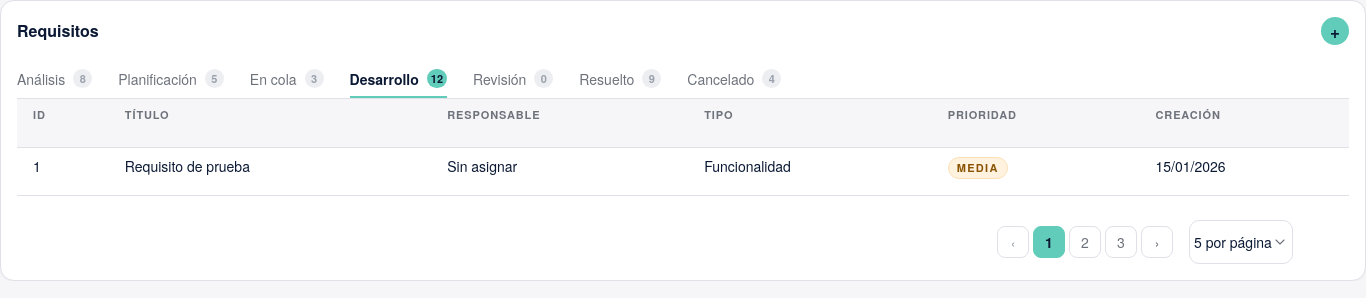
ProjectRequirementsSection — cambio de tab › TS-14: un tab con 0 requisitos muestra total 0, tabla vacía y paginador deshabilitado
Click the tab "Revisión 0" at (513, 80), box [473,61,553,98]
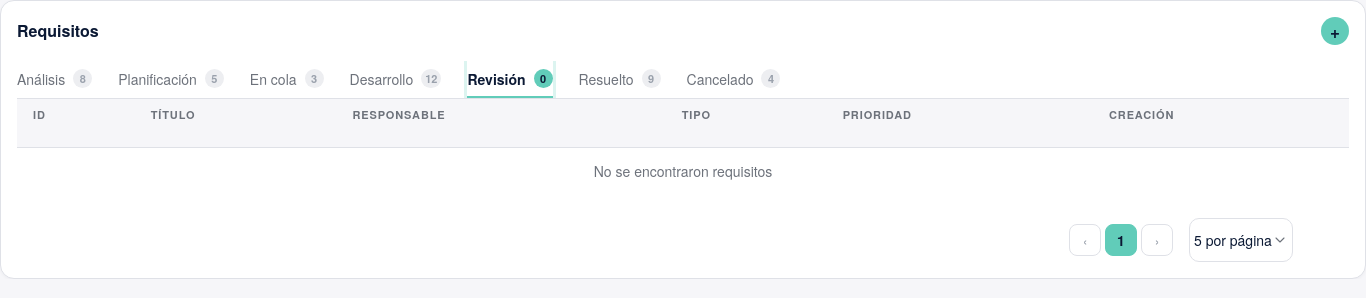
Expected: the navigation bar named "Paginación" is shown, [1068,218,1293,262]
Result: the text "No se encontraron requisitos" is shown at [594,160,772,180]
Result: the button named "Página siguiente" is disabled at [1141,224,1173,256]
